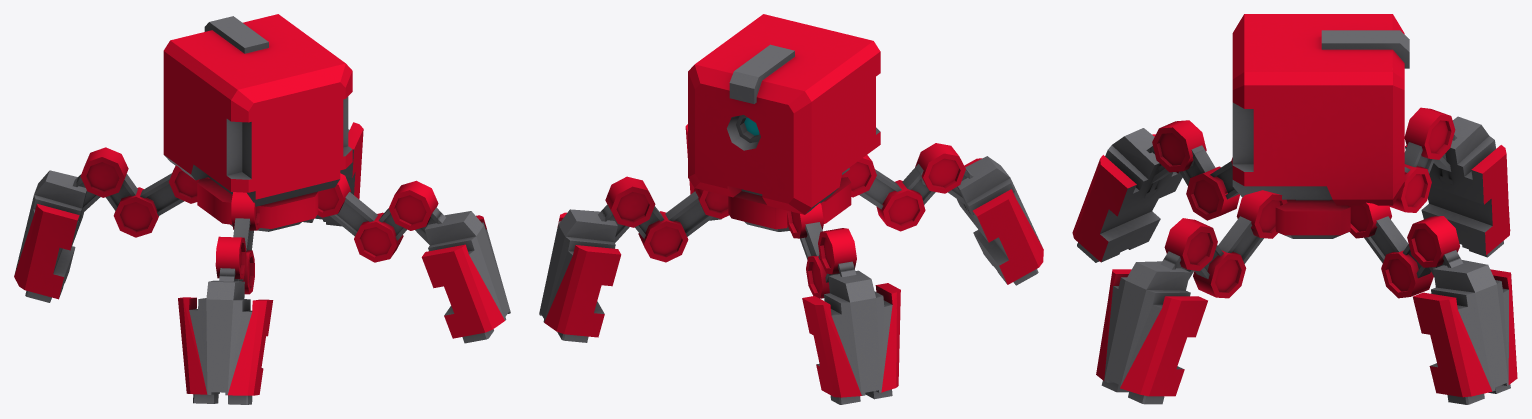
The model's file is Monster1_Attack24.obj.
3 renders of one model, left to right at view 1: azimuth 30°, elevation 25°; view 2: azimuth 150°, elevation 25°; view 3: azimuth 270°, elevation 25°, orthographic. The views are drawn at different scales.
Parts seen in each view (by area): view 1: Box006, Object021, Object017, Object025, Object020, Object028, Object027, Object018, Object019, Object026, Object024, Object022 (+1 smaller); view 2: Box006, Object025, Object013, Object021, Object016, Object023, Object024, Object015, Object014, Object028, Object022, Object026 (+1 smaller); view 3: Box006, Object013, Object017, Object021, Object025, Object018, Object023, Object016, Object020, Object024, Object014, Object028 (+4 smaller).
Part boxes in pixels (x1,y1,x2,y2): Box006: [163, 14, 352, 231]; Object021: [178, 280, 273, 404]; Object017: [421, 211, 510, 343]; Object025: [14, 170, 86, 302]; Object020: [388, 180, 445, 244]; Object028: [73, 147, 128, 214]; Object027: [105, 174, 158, 237]; Object018: [317, 173, 377, 236]; Object019: [354, 208, 407, 262]; Object026: [140, 165, 209, 216]; Object024: [215, 236, 246, 281]; Object022: [231, 192, 259, 251]; Box006: [688, 14, 880, 231]; Object025: [802, 270, 900, 404]; Object013: [539, 209, 621, 342]; Object021: [957, 156, 1043, 285]; Object016: [598, 176, 655, 242]; Object023: [876, 164, 935, 231]; Object024: [915, 143, 973, 205]; Object015: [635, 206, 688, 262]; Object014: [665, 188, 728, 236]; Object028: [818, 228, 856, 277]; Object022: [841, 155, 901, 209]; Object026: [787, 203, 823, 259]; Box006: [1232, 14, 1409, 238]; Object013: [1413, 259, 1517, 404]; Object017: [1096, 261, 1207, 404]; Object021: [1072, 128, 1182, 262]; Object025: [1405, 116, 1510, 257]; Object018: [1218, 190, 1287, 263]; Object023: [1179, 145, 1239, 220]; Object016: [1407, 216, 1463, 276]; Object020: [1160, 218, 1217, 279]; Object024: [1146, 120, 1206, 183]; Object014: [1347, 202, 1408, 263]; Object028: [1404, 107, 1456, 171].
Bounding box in the file's own units: 150 × 109 × 153.
